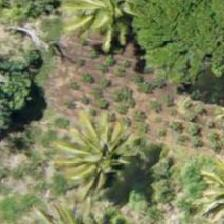coconut_tree: (62, 106, 152, 196), (59, 0, 149, 53)
